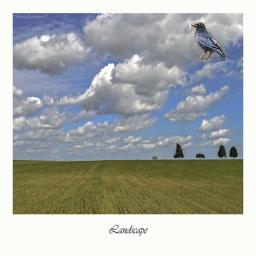Crow: (191, 22, 228, 61)
